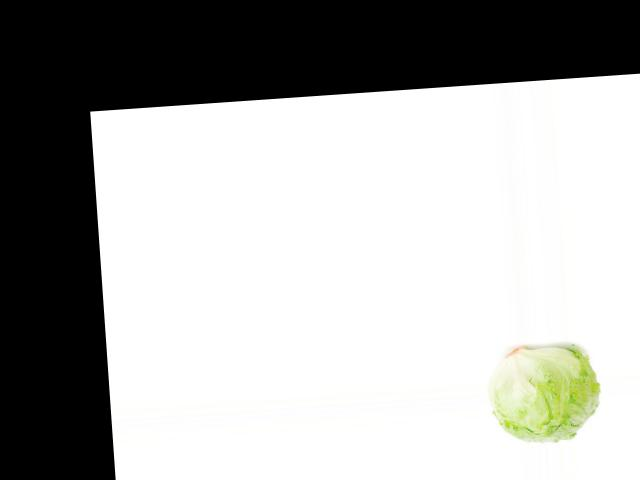lettuce: (492, 344, 602, 446)
